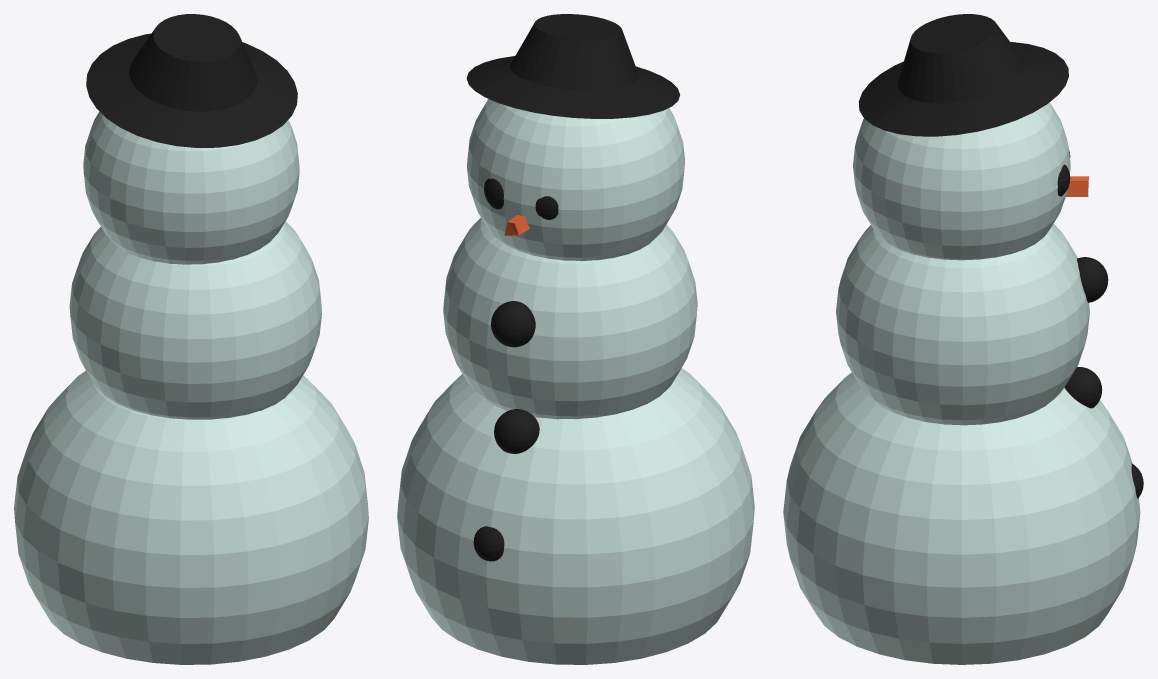
The model's file is snow man.001.fbx.
3 renders of one model, left to right at view 1: azimuth 30°, elevation 25°; view 2: azimuth 150°, elevation 25°; view 3: azimuth 270°, elevation 25°, orthographic.
Parts seen in each view (by area): view 1: snow man.001; view 2: snow man.001; view 3: snow man.001.
Boxes of the visible parts, box(x1,y1,x2,y2) form: snow man.001: box(14, 14, 368, 664); snow man.001: box(397, 14, 754, 664); snow man.001: box(783, 14, 1143, 664).
Size of the model in its own units: 200 by 384 by 202.
